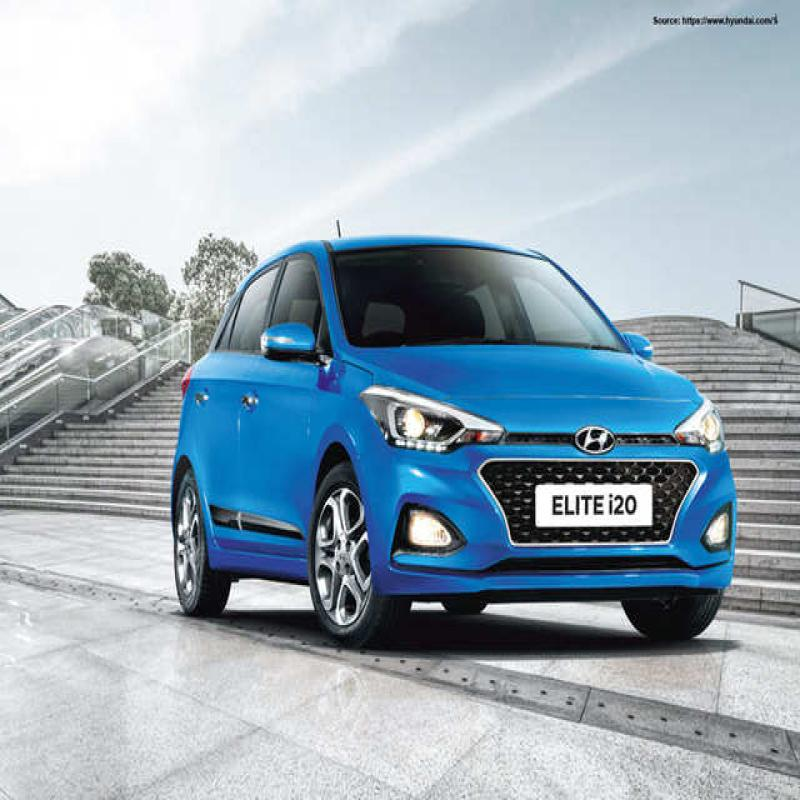car: (155, 242, 775, 681)
